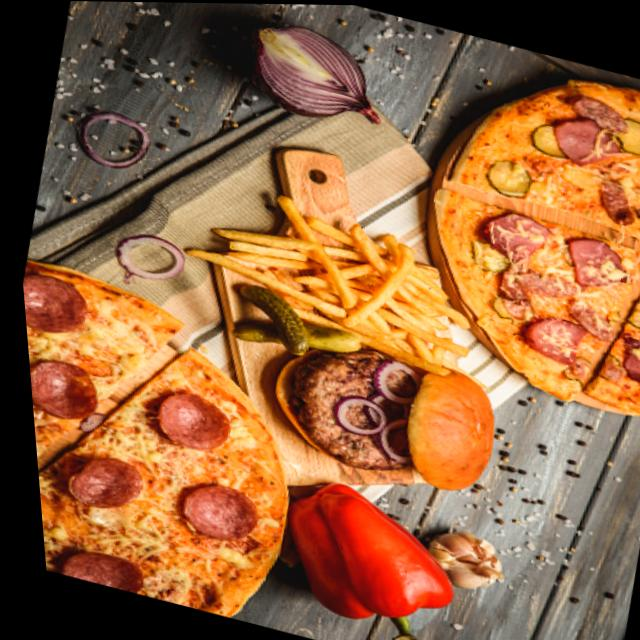burger: (248, 323, 507, 499)
pizza: (16, 256, 335, 628), (369, 35, 640, 424)
